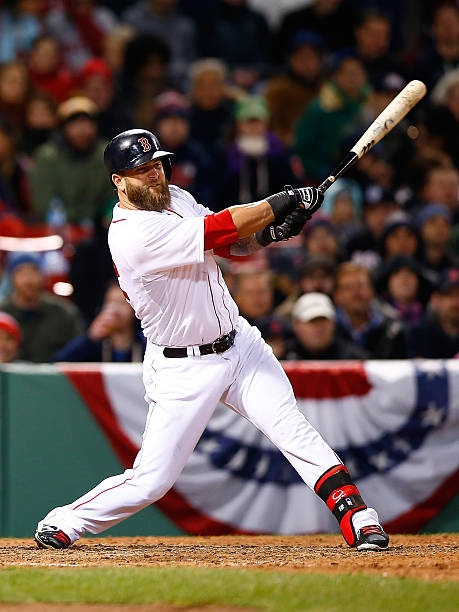bita: (284, 77, 433, 218)
